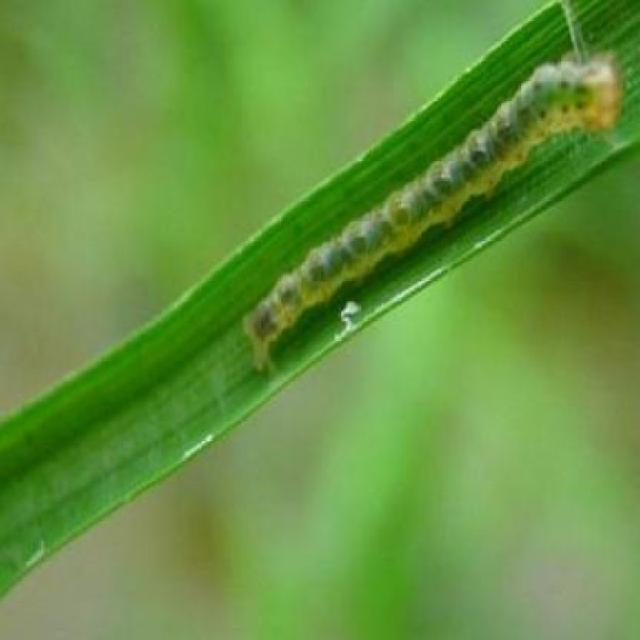leaf-folder: (239, 33, 624, 364)
